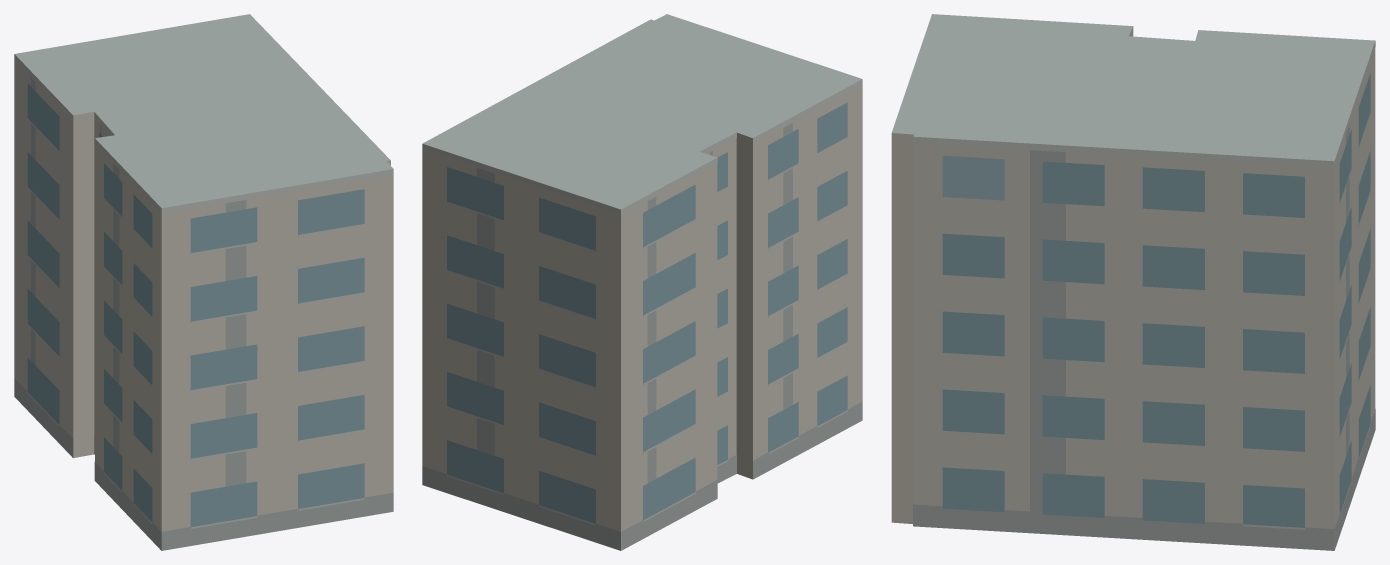
The model's file is survey-upis-32883472.glb.
3 views of the same model, side by side, from view 1: azimuth 30°, elevation 25°; view 2: azimuth 150°, elevation 25°; view 3: azimuth 270°, elevation 25° (orthographic). The views are drawn at different scales.
Visible parts, largest first — view 1: survey-upis-32883472.tmp; view 2: survey-upis-32883472.tmp; view 3: survey-upis-32883472.tmp.
Boxes of the visible parts, x1=… form: survey-upis-32883472.tmp: x1=14, y1=14, x2=393, y2=550; survey-upis-32883472.tmp: x1=422, y1=14, x2=862, y2=550; survey-upis-32883472.tmp: x1=891, y1=14, x2=1375, y2=550.
Size of the model in its own units: 11.51 by 14.2 by 15.99.
